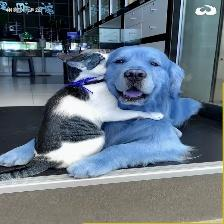kedo: (0, 48, 163, 181)
